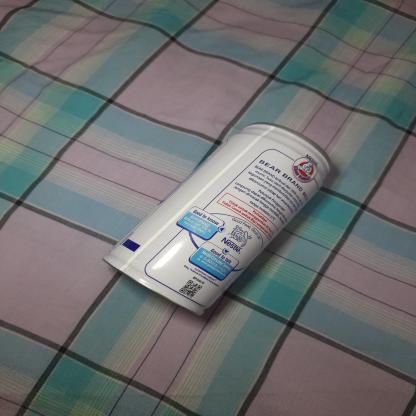can: (98, 116, 344, 322)
